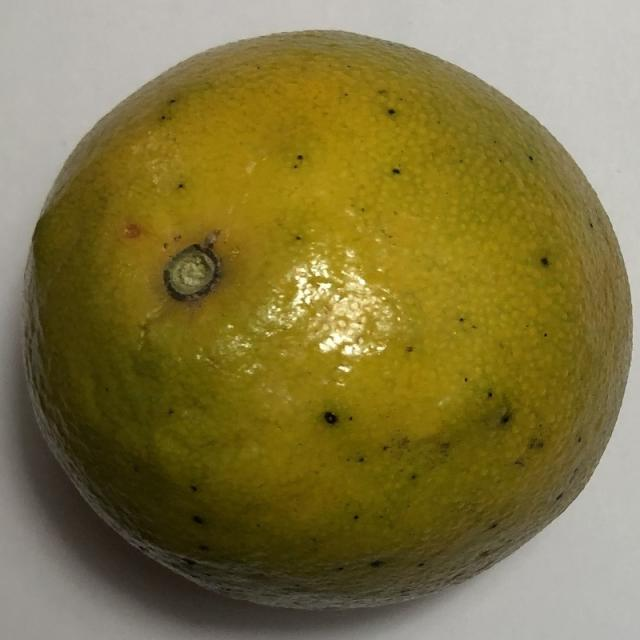blackspot: (15, 14, 636, 634)
